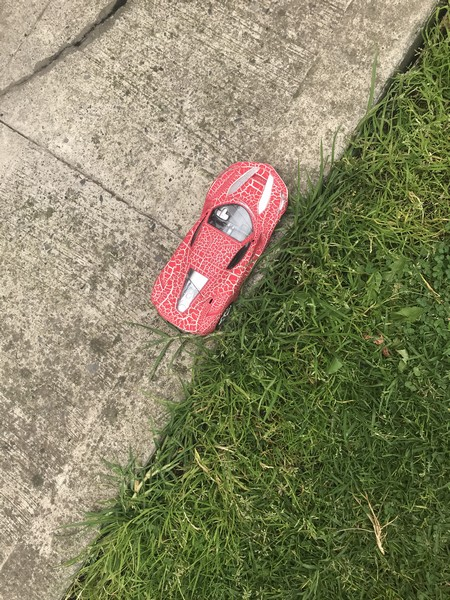RC: (148, 159, 294, 340)
